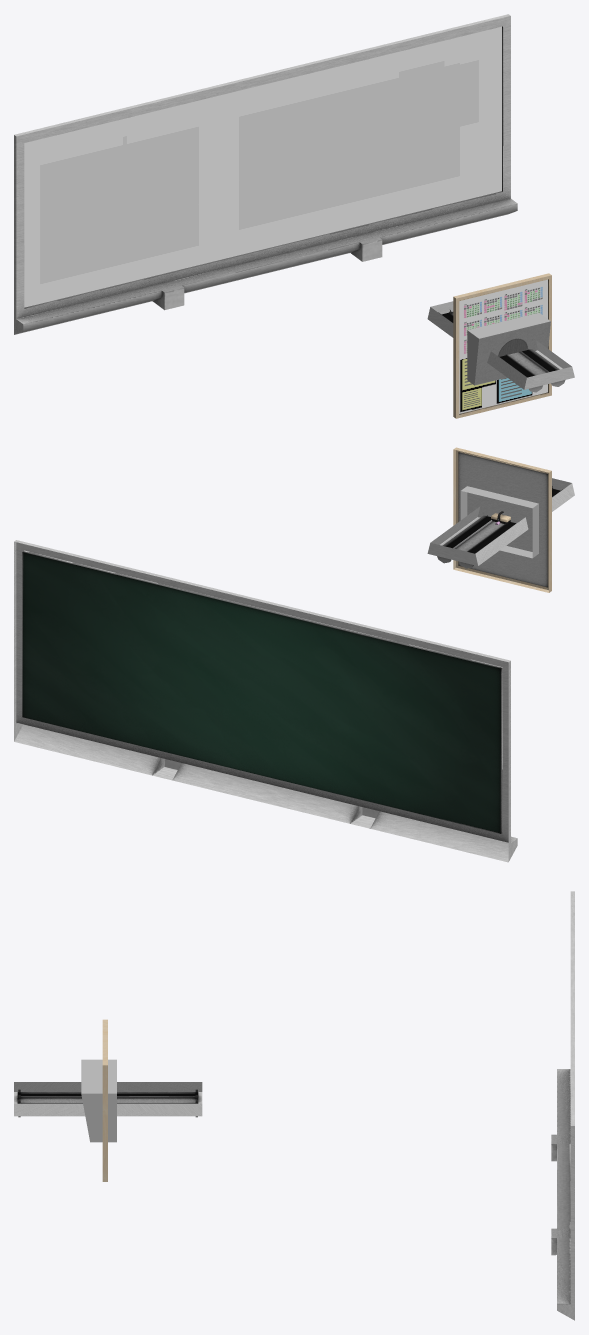
File: prop_sch_furniture_1.fbx
3 views of the same model, one above another, from view 1: azimuth 30°, elevation 25°; view 2: azimuth 150°, elevation 25°; view 3: azimuth 270°, elevation 25° (orthographic). The views are drawn at different scales.
Parts seen in each view (by area): view 1: prop_sch_blackboard_Deco1, prop_sch_blackboard, prop_sch_buletinBoard_Deco1, prop_sch_speakre, prop_sch_ceilinglamp, prop_sch_buletinBoard; view 2: prop_sch_blackboard, prop_sch_buletinBoard, prop_sch_ceilinglamp, prop_sch_speakre; view 3: prop_sch_blackboard, prop_sch_ceilinglamp, prop_sch_speakre, prop_sch_buletinBoard.
Boxes of the visible parts, left/top/right/bottom form: prop_sch_blackboard_Deco1: left=24, top=26, right=501, bottom=307; prop_sch_blackboard: left=14, top=14, right=517, bottom=334; prop_sch_buletinBoard_Deco1: left=459, top=279, right=547, bottom=413; prop_sch_speakre: left=467, top=313, right=550, bottom=385; prop_sch_ceilinglamp: left=427, top=301, right=574, bottom=392; prop_sch_buletinBoard: left=453, top=273, right=551, bottom=418; prop_sch_blackboard: left=14, top=540, right=517, bottom=862; prop_sch_buletinBoard: left=453, top=447, right=551, bottom=592; prop_sch_ceilinglamp: left=427, top=478, right=574, bottom=568; prop_sch_speakre: left=460, top=486, right=538, bottom=558; prop_sch_blackboard: left=551, top=891, right=574, bottom=1320; prop_sch_ceilinglamp: left=14, top=1082, right=202, bottom=1117; prop_sch_speakre: left=81, top=1059, right=116, bottom=1142; prop_sch_buletinBoard: left=102, top=1019, right=107, bottom=1181.
Size of the model in its own units: 310 by 120 by 313.
